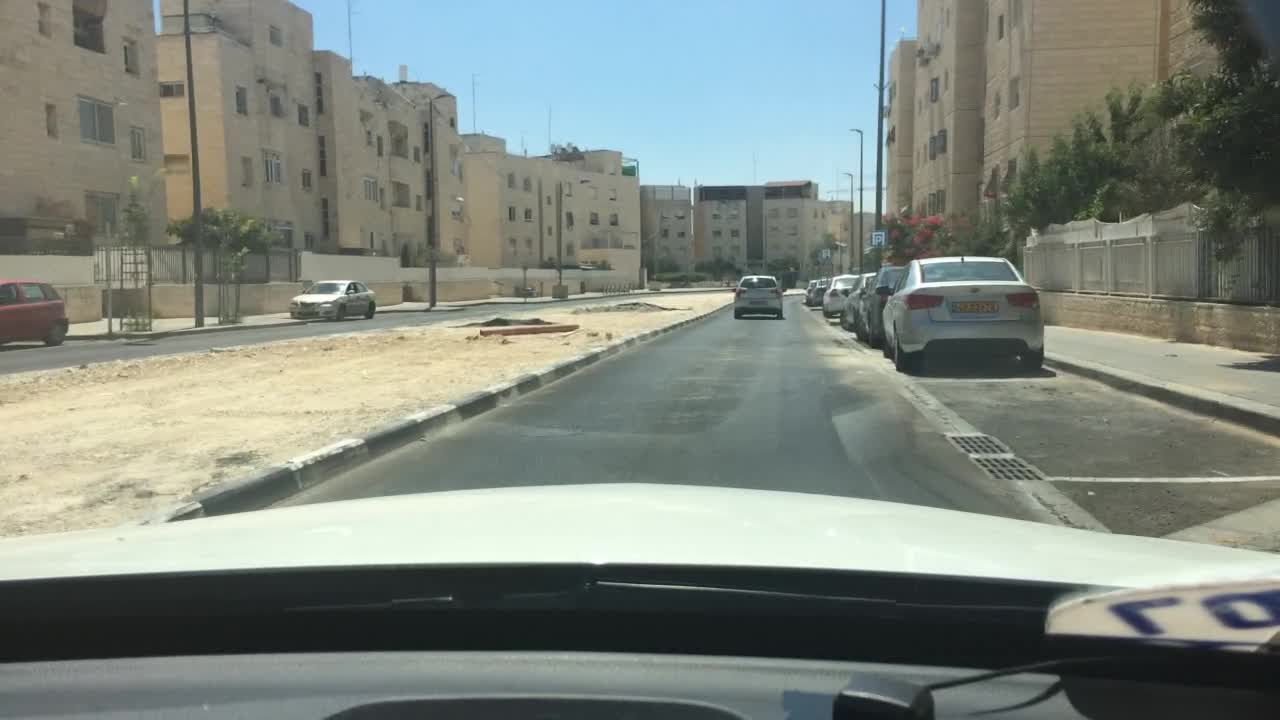car: (873, 253, 1047, 375), (0, 277, 72, 347), (853, 263, 907, 348), (288, 275, 377, 320), (840, 269, 880, 329), (732, 274, 785, 318), (822, 272, 859, 317), (810, 277, 833, 307), (805, 277, 819, 305), (725, 277, 740, 288)
traffic sign: (869, 230, 884, 245), (820, 247, 830, 259)
